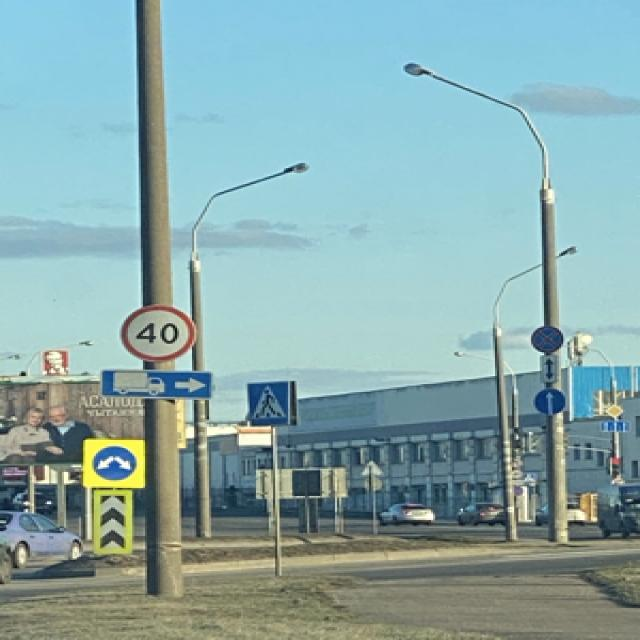crosswalk: (245, 382, 288, 422)
speedlimit: (120, 302, 194, 360)
